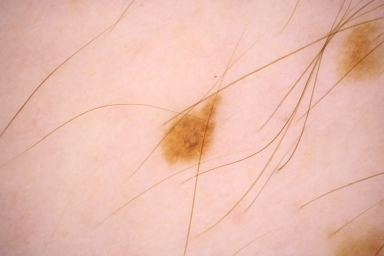nevus: (158, 95, 222, 162)
